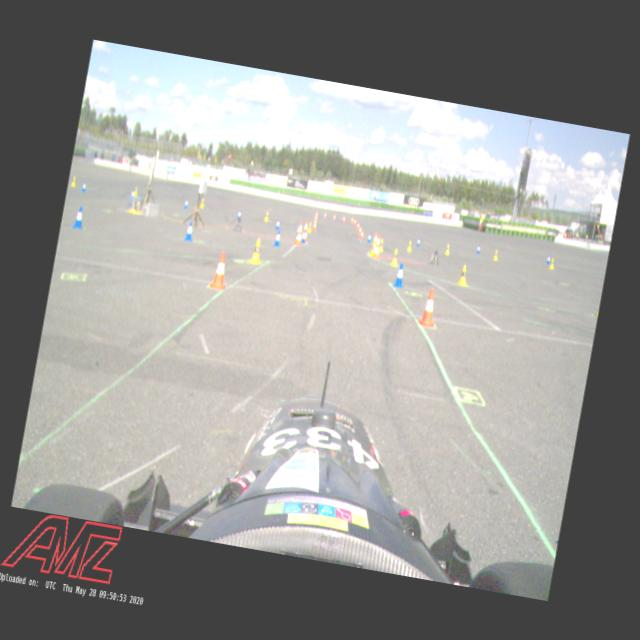blue_cone: (392, 261, 407, 288), (72, 206, 85, 230), (182, 220, 195, 242), (272, 230, 282, 248), (182, 197, 190, 210), (300, 230, 307, 244), (274, 218, 281, 230), (235, 210, 242, 220), (366, 232, 372, 243), (80, 181, 86, 192), (476, 244, 482, 254), (546, 254, 551, 264), (416, 237, 420, 247), (130, 189, 134, 197)
large_orange_cone: (371, 233, 383, 260), (294, 220, 306, 246), (368, 232, 379, 256), (300, 220, 310, 243)
orange_cone: (416, 286, 442, 328), (208, 250, 232, 291), (358, 228, 364, 240), (357, 225, 362, 235), (311, 222, 316, 230), (356, 221, 360, 230), (352, 218, 357, 225), (350, 216, 354, 224), (322, 212, 327, 218), (342, 215, 346, 222), (332, 214, 336, 221), (312, 218, 316, 225), (314, 210, 318, 215), (314, 214, 317, 220)
yellow_cone: (249, 238, 264, 265), (456, 263, 469, 286), (390, 247, 400, 266), (368, 241, 376, 256), (548, 256, 556, 270), (444, 242, 452, 255), (378, 238, 385, 252), (492, 249, 499, 262), (70, 175, 77, 187), (406, 240, 412, 252), (263, 210, 269, 222), (199, 197, 205, 208), (306, 222, 312, 232), (133, 186, 138, 196)
